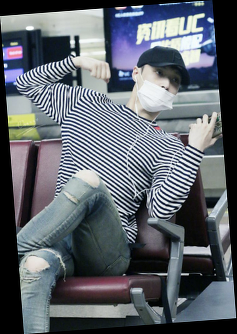mask_weared_incorrect: (139, 65, 182, 111)
